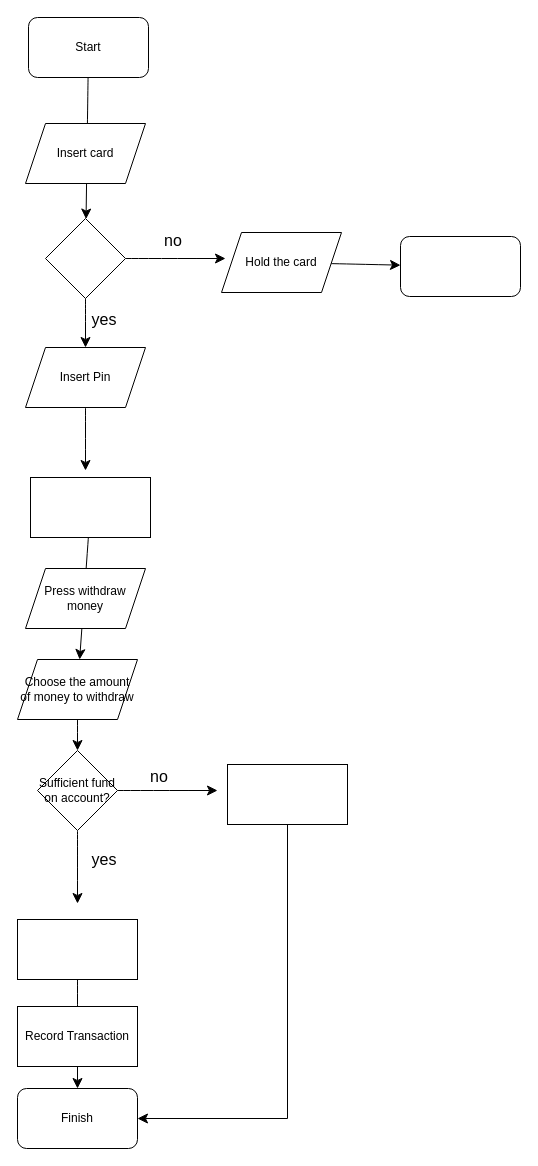
This 538x1166 diagram has some shape labels left out. The centre of each missing label's shape, as x and y in pixels:
"End" goes at pixel 460 266.
"Is card valid?" goes at pixel 85 258.
"Reject Request" goes at pixel 287 794.
"Relase Money" goes at pixel 77 949.
"validate the pin number" goes at pixel 90 507.
